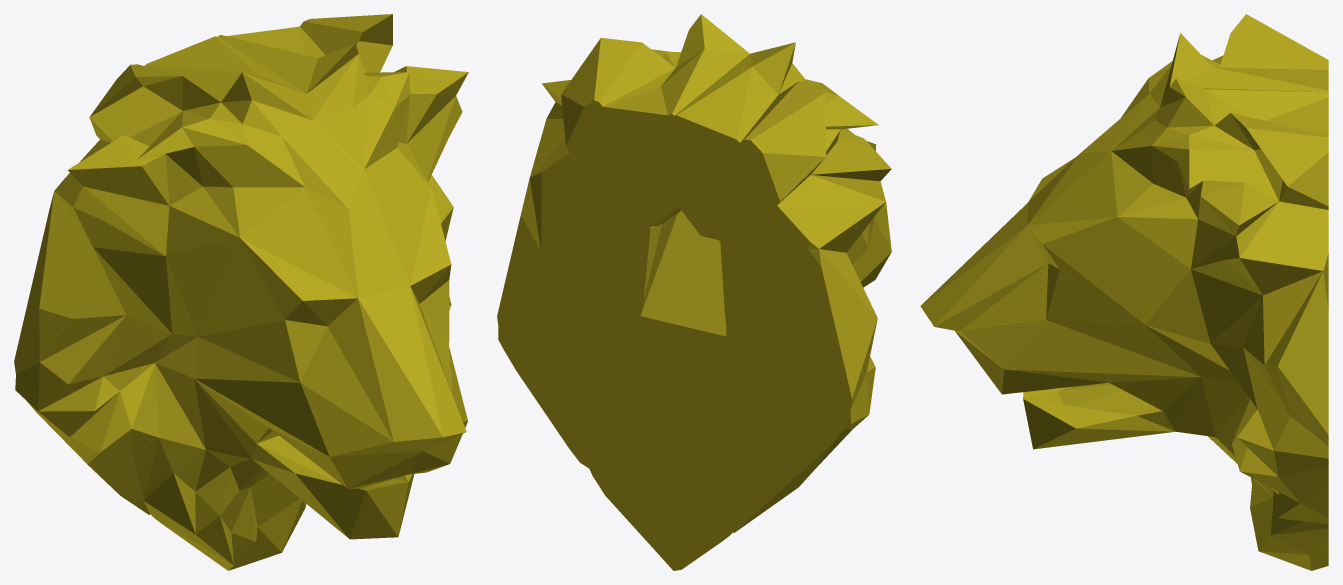
File: leon.glb
3 views of the same model, side by side, from view 1: azimuth 30°, elevation 25°; view 2: azimuth 150°, elevation 25°; view 3: azimuth 270°, elevation 25° (orthographic). The views are drawn at different scales.
Parts seen in each view (by area): view 1: lion; view 2: lion; view 3: lion.
Boxes of the visible parts, box(x1,y1,x2,y2) form: lion: box(14, 14, 468, 570); lion: box(497, 14, 891, 570); lion: box(920, 14, 1328, 570).
Size of the model in its own units: 80.76 by 106 by 76.22.
